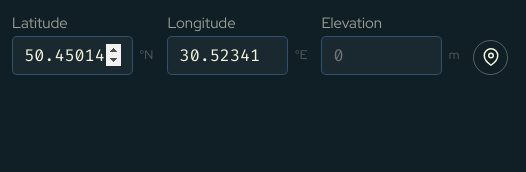
Scenario: LocationInput › reports other geolocation failures generically
This screenshot has width=526, height=172.
What coordinates should you click on to do the following:
click the button named "use my location"
I would click on:
 (491, 57)
Its box is [474,40,508,75].
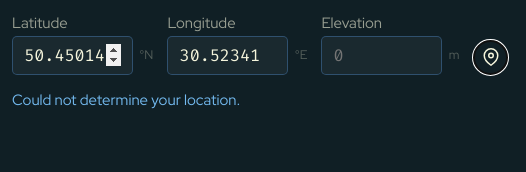
Expected: the text "Could not determine your location." is shown, [12,90,240,110]
